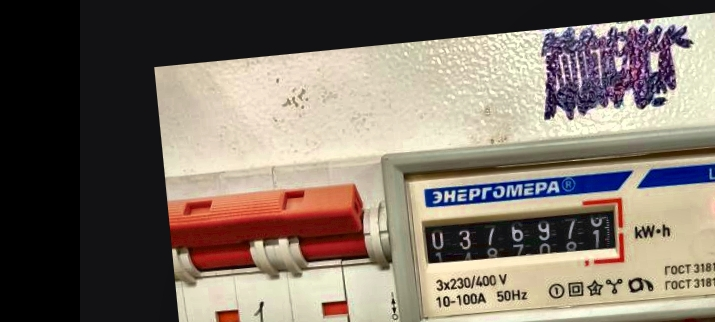0: (429, 227, 447, 250)
1: (591, 227, 602, 250)
3: (458, 227, 473, 250)
6: (509, 218, 526, 242)
7: (483, 222, 499, 246), (563, 214, 579, 238)
9: (536, 218, 552, 241)
screen: (412, 192, 632, 285)
